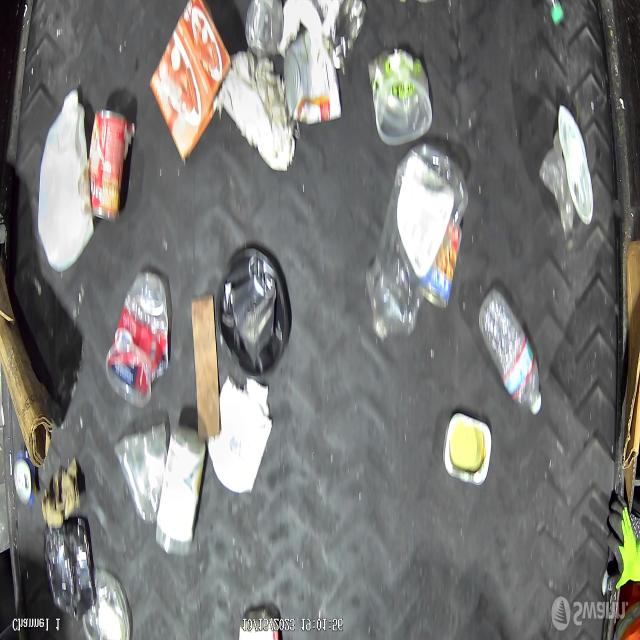can: (285, 31, 343, 123), (89, 108, 130, 221), (442, 411, 492, 487), (424, 222, 462, 310), (14, 449, 39, 509)
milk_jug: (39, 88, 94, 272)
non_white_jug: (216, 246, 290, 381), (45, 513, 96, 619)
plastic_bottle: (106, 275, 172, 404), (477, 289, 542, 415)
